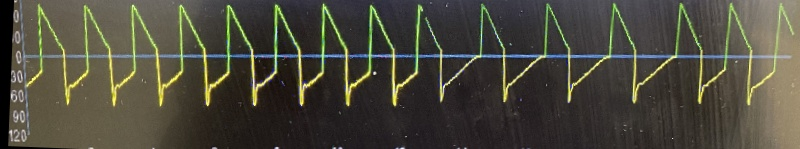peepi: (20, 0, 800, 111)
